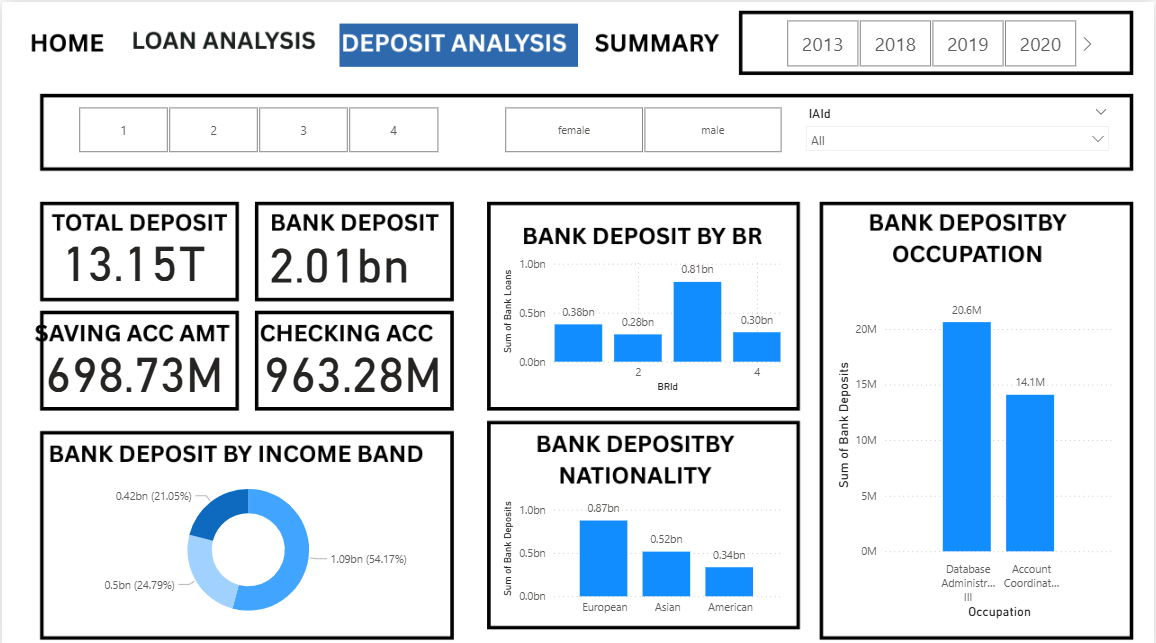

The page's visual inventory and layout, read from the dashboard file:
{"tool":"powerbi","page":{"name":"DEPOSIT ANALYSIS","canvas":[1280,720],"ordinal":2},"visuals":[{"type":"slicer","fields":{"Values":["banking_case customer.Year of joining"]},"box":[846.2,12.7,370.6,65.2],"z":0},{"type":"actionButton","box":[25,25,100,40],"z":1000},{"type":"actionButton","box":[138.3,25,218.3,40],"z":2000},{"type":"actionButton","box":[640,25,171.7,40],"z":3000},{"type":"card","fields":{"Values":["Sum(banking_case customer.Total loan)"]},"box":[60,253.3,171.7,61.7],"z":4000},{"type":"card","fields":{"Values":["Sum(banking_case customer.Bank Deposits)"]},"box":[288.3,255,171.7,61.7],"z":5000},{"type":"card","fields":{"Values":["Sum(banking_case customer.Saving Accounts)"]},"box":[40,376.7,213.3,61.7],"z":6000},{"type":"card","fields":{"Values":["Sum(banking_case customer.Checking Accounts)"]},"box":[285,376.7,208.3,61.7],"z":7000},{"type":"donutChart","fields":{"Category":["banking_case customer.Income Band"],"Y":["Sum(banking_case customer.Bank Deposits)"]},"box":[60,516.7,426.7,183.3],"z":8000},{"type":"clusteredColumnChart","fields":{"Category":["banking_case customer.BRId"],"Y":["Sum(banking_case customer.Bank Loans)"]},"box":[551.7,273.3,318.3,165],"z":9000},{"type":"clusteredColumnChart","fields":{"Category":["banking_case customer.Nationality"],"Y":["Sum(banking_case customer.Bank Deposits)"]},"box":[551.7,540,318.3,150],"z":10000},{"type":"clusteredColumnChart","fields":{"Category":["banking_case customer.Occupation"],"Y":["Sum(banking_case customer.Bank Deposits)"]},"box":[921.7,315,318.3,375],"z":11000},{"type":"slicer","fields":{"Values":["banking_case customer.BRId"]},"box":[60,110,448.3,63.3],"z":12000},{"type":"slicer","fields":{"Values":["banking_case customer.GenderId"]},"box":[533.3,110,356.7,63.3],"z":13000},{"type":"slicer","fields":{"Values":["banking_case customer.IAId"]},"box":[883.3,110,356.7,63.3],"z":14000}]}

Visuals, with their boxes in screenshot pixels (x1, y1, x2, y2), scaled from the page's 1280x720 canvas onto the 1156x643 screenshot:
slicer - banking_case customer.Year of joining: region(764, 11, 1099, 70)
actionButton: region(23, 22, 113, 58)
actionButton: region(125, 22, 322, 58)
actionButton: region(578, 22, 733, 58)
card - Sum(banking_case customer.Total loan): region(54, 226, 209, 281)
card - Sum(banking_case customer.Bank Deposits): region(260, 228, 415, 283)
card - Sum(banking_case customer.Saving Accounts): region(36, 336, 229, 392)
card - Sum(banking_case customer.Checking Accounts): region(257, 336, 446, 392)
donutChart - banking_case customer.Income Band x Sum(banking_case customer.Bank Deposits): region(54, 461, 440, 625)
clusteredColumnChart - banking_case customer.BRId x Sum(banking_case customer.Bank Loans): region(498, 244, 786, 391)
clusteredColumnChart - banking_case customer.Nationality x Sum(banking_case customer.Bank Deposits): region(498, 482, 786, 616)
clusteredColumnChart - banking_case customer.Occupation x Sum(banking_case customer.Bank Deposits): region(832, 281, 1120, 616)
slicer - banking_case customer.BRId: region(54, 98, 459, 155)
slicer - banking_case customer.GenderId: region(482, 98, 804, 155)
slicer - banking_case customer.IAId: region(798, 98, 1120, 155)
